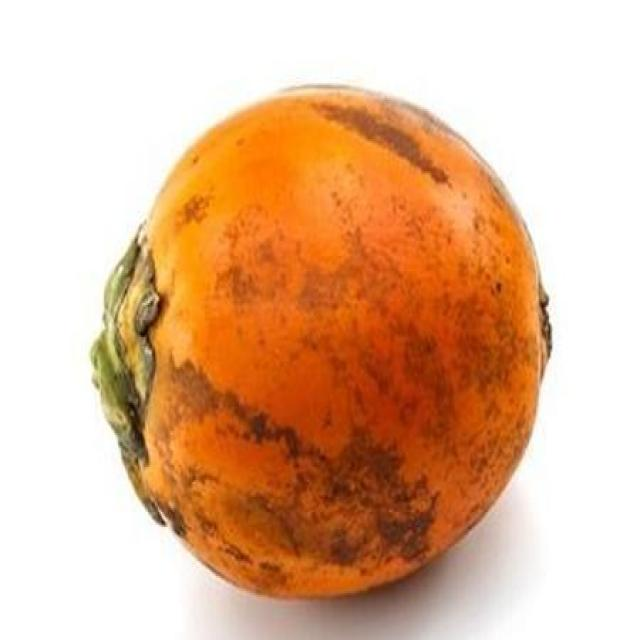good: (90, 87, 552, 602)
